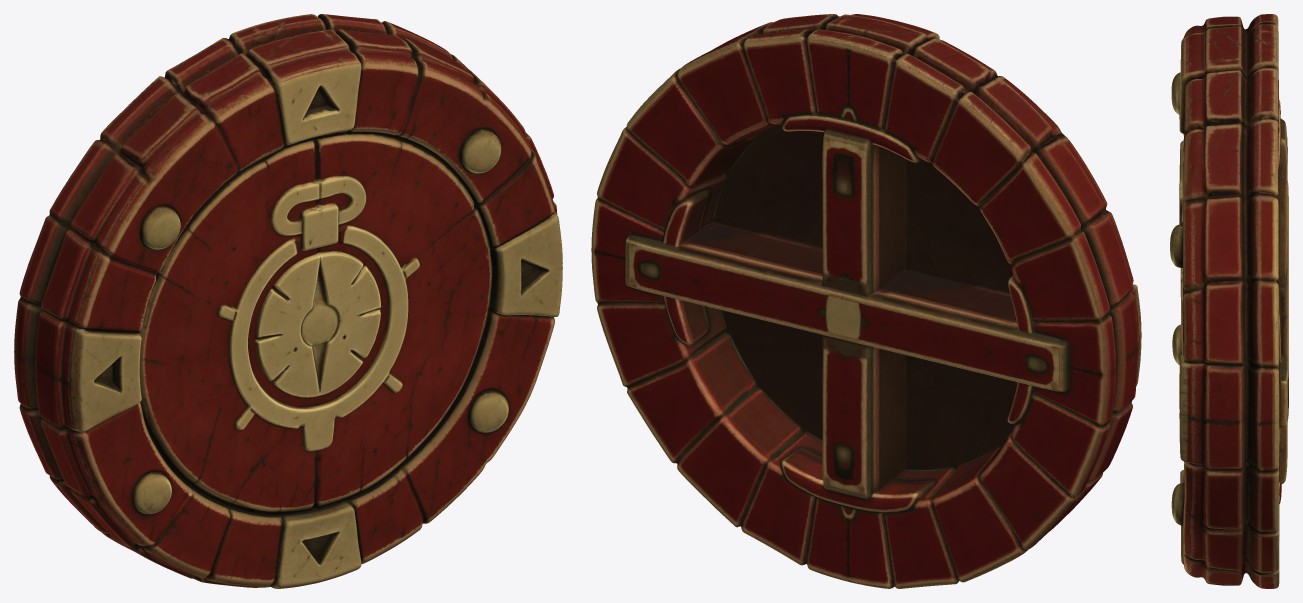
The model's file is batch2_05.glb.
3 renders of one model, left to right at view 1: azimuth 30°, elevation 25°; view 2: azimuth 150°, elevation 25°; view 3: azimuth 270°, elevation 25°, orthographic. The views are drawn at different scales.
Bounding box in the file's own units: 1.9 × 1.9 × 0.3927.
Materials: 1 (1 with a texture image).
